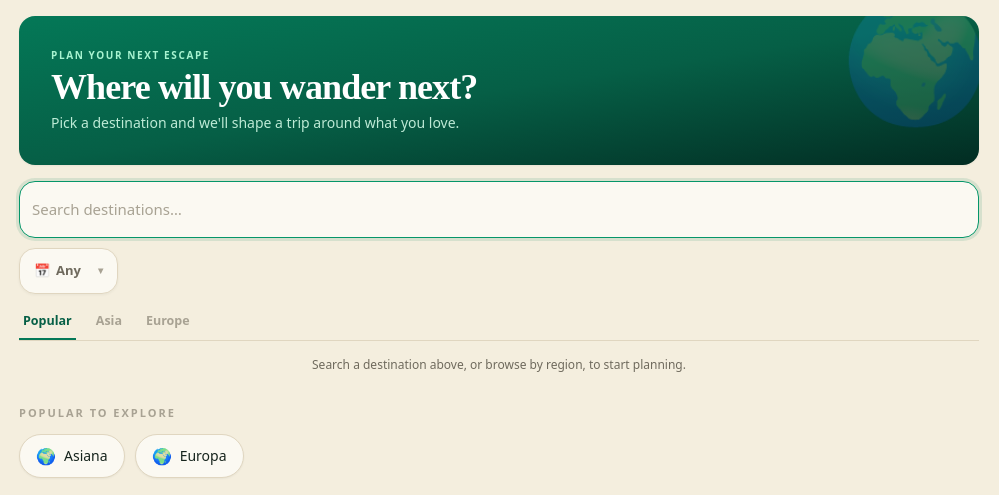
DestinationPicker › region browse › filters the explore board to the chosen region and heads it 'Explore <region>'
The image size is (999, 495).
Click the button "Asia" at (109, 322), box top-left (92, 304), bottom-right (126, 340)
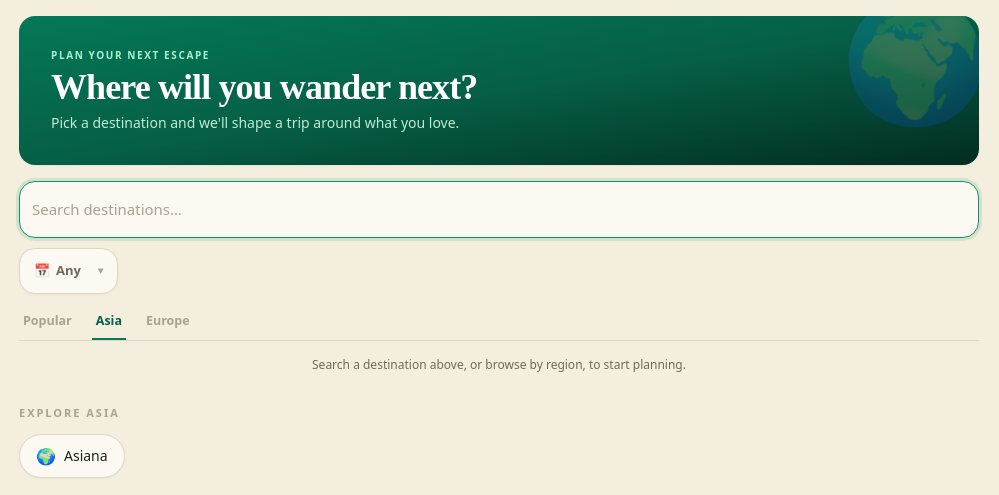
# Back to the popular (all-region) board restores both.
Click the button "Popular" at (47, 322), box top-left (19, 304), bottom-right (76, 340)
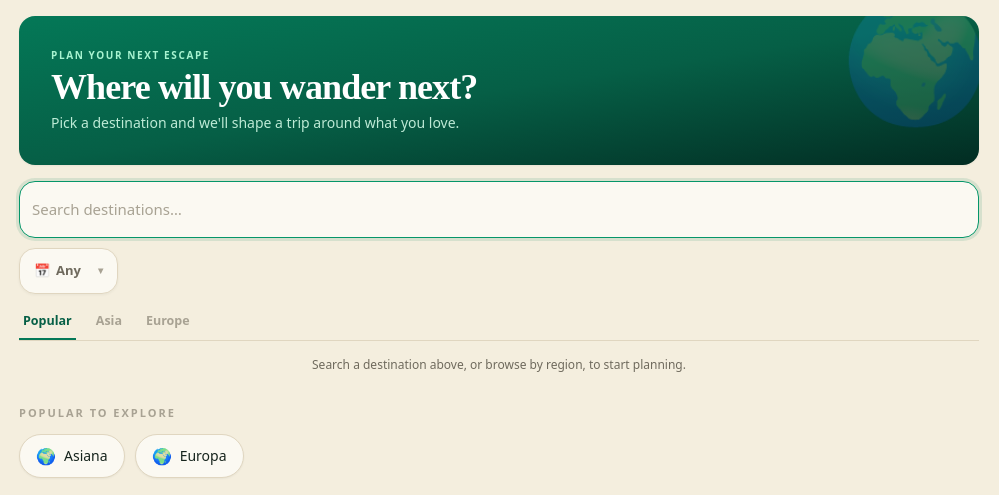
Check: the text "Europa" is shown, box top-left (180, 446), bottom-right (226, 466)
